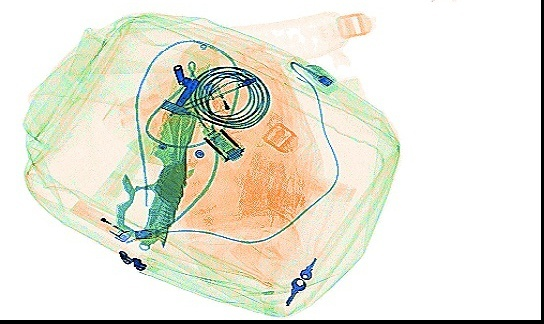lighter: (68, 197, 130, 242), (202, 81, 242, 135)
